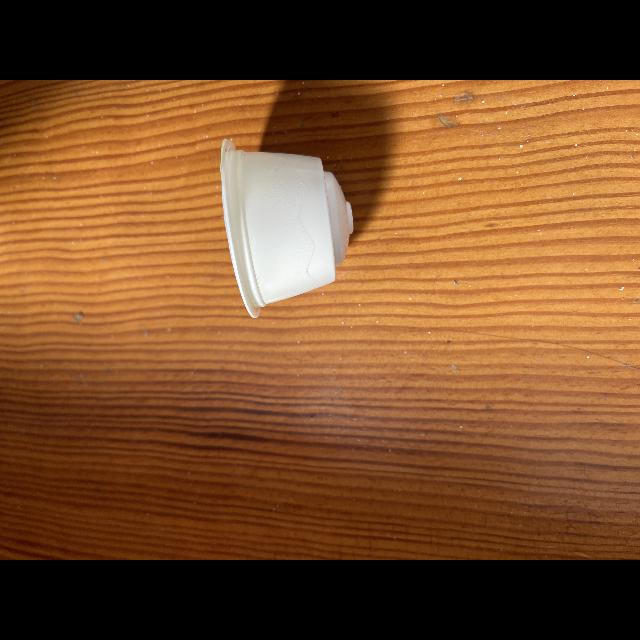intact_capsule: (212, 132, 376, 330)
